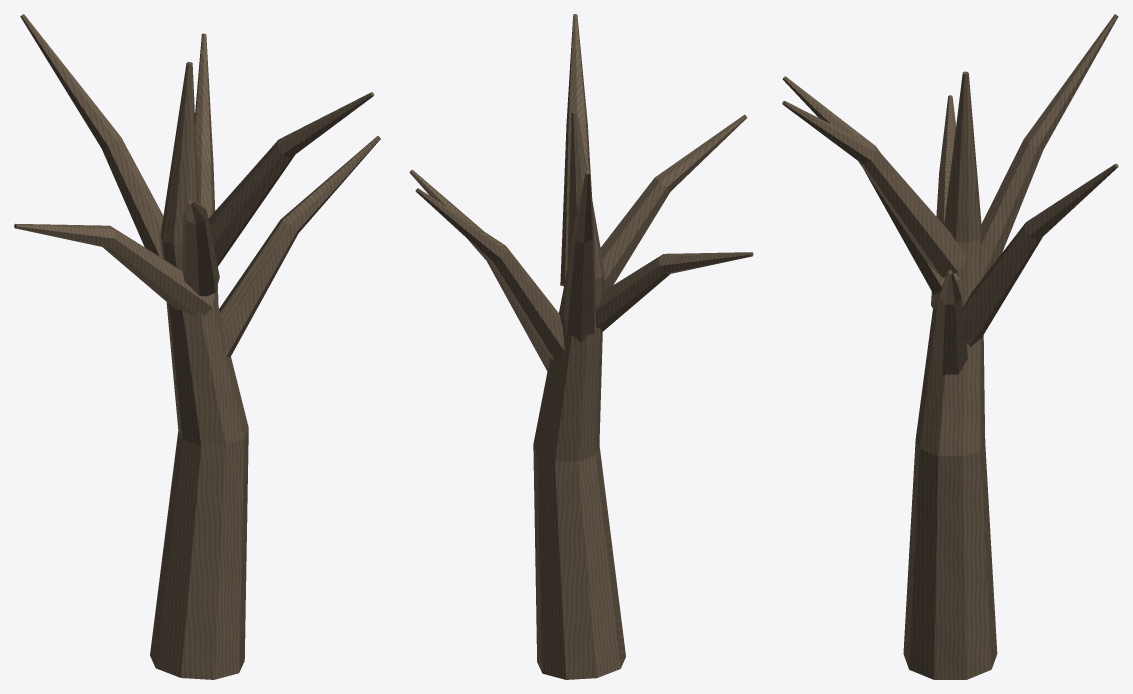
File: tree_dead.glb
3 views of the same model, side by side, from view 1: azimuth 30°, elevation 25°; view 2: azimuth 150°, elevation 25°; view 3: azimuth 270°, elevation 25° (orthographic). The views are drawn at different scales.
Parts seen in each view (by area): view 1: tree_dead; view 2: tree_dead; view 3: tree_dead.
Boxes of the visible parts, <box> form: tree_dead: <box>14,14,380,679</box>; tree_dead: <box>409,14,753,679</box>; tree_dead: <box>782,14,1118,679</box>.
Bounding box in the file's own units: 2.31 × 3.68 × 1.86.
Materials: 1 (1 with a texture image).
